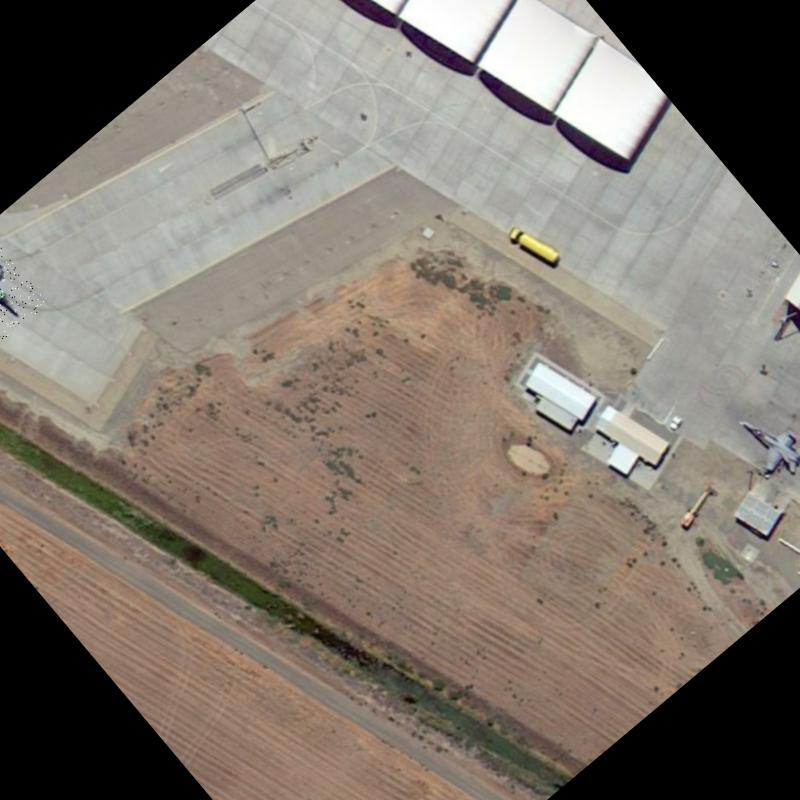A16: (722, 388, 800, 490), (0, 230, 48, 343)
